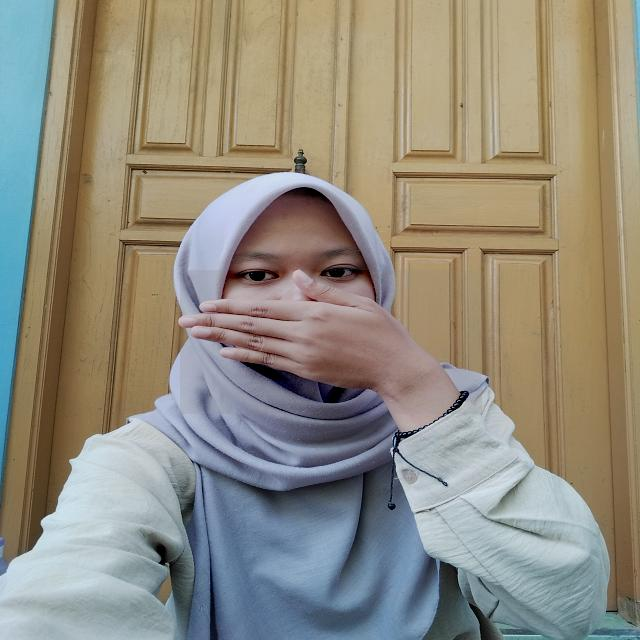buruk: (180, 270, 482, 414)
